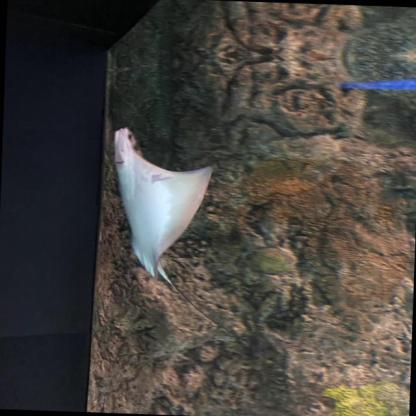stingray: (107, 127, 208, 281)
